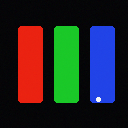0 point: (96, 97, 100, 101)
